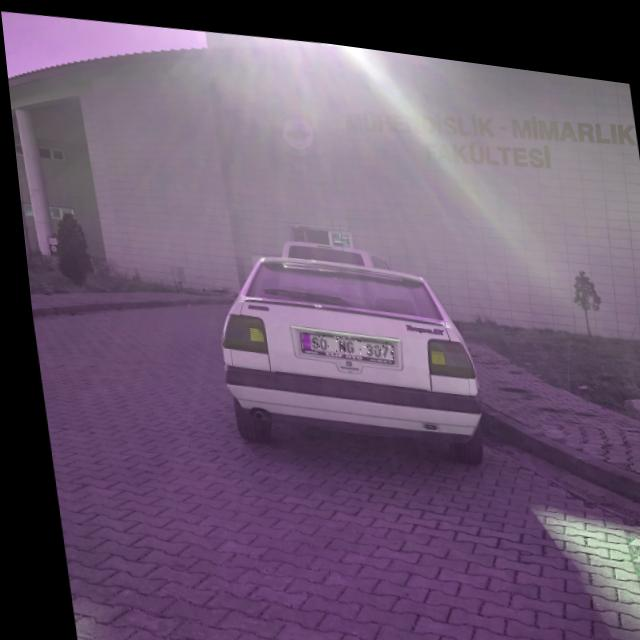license_plate: (294, 321, 388, 352)
